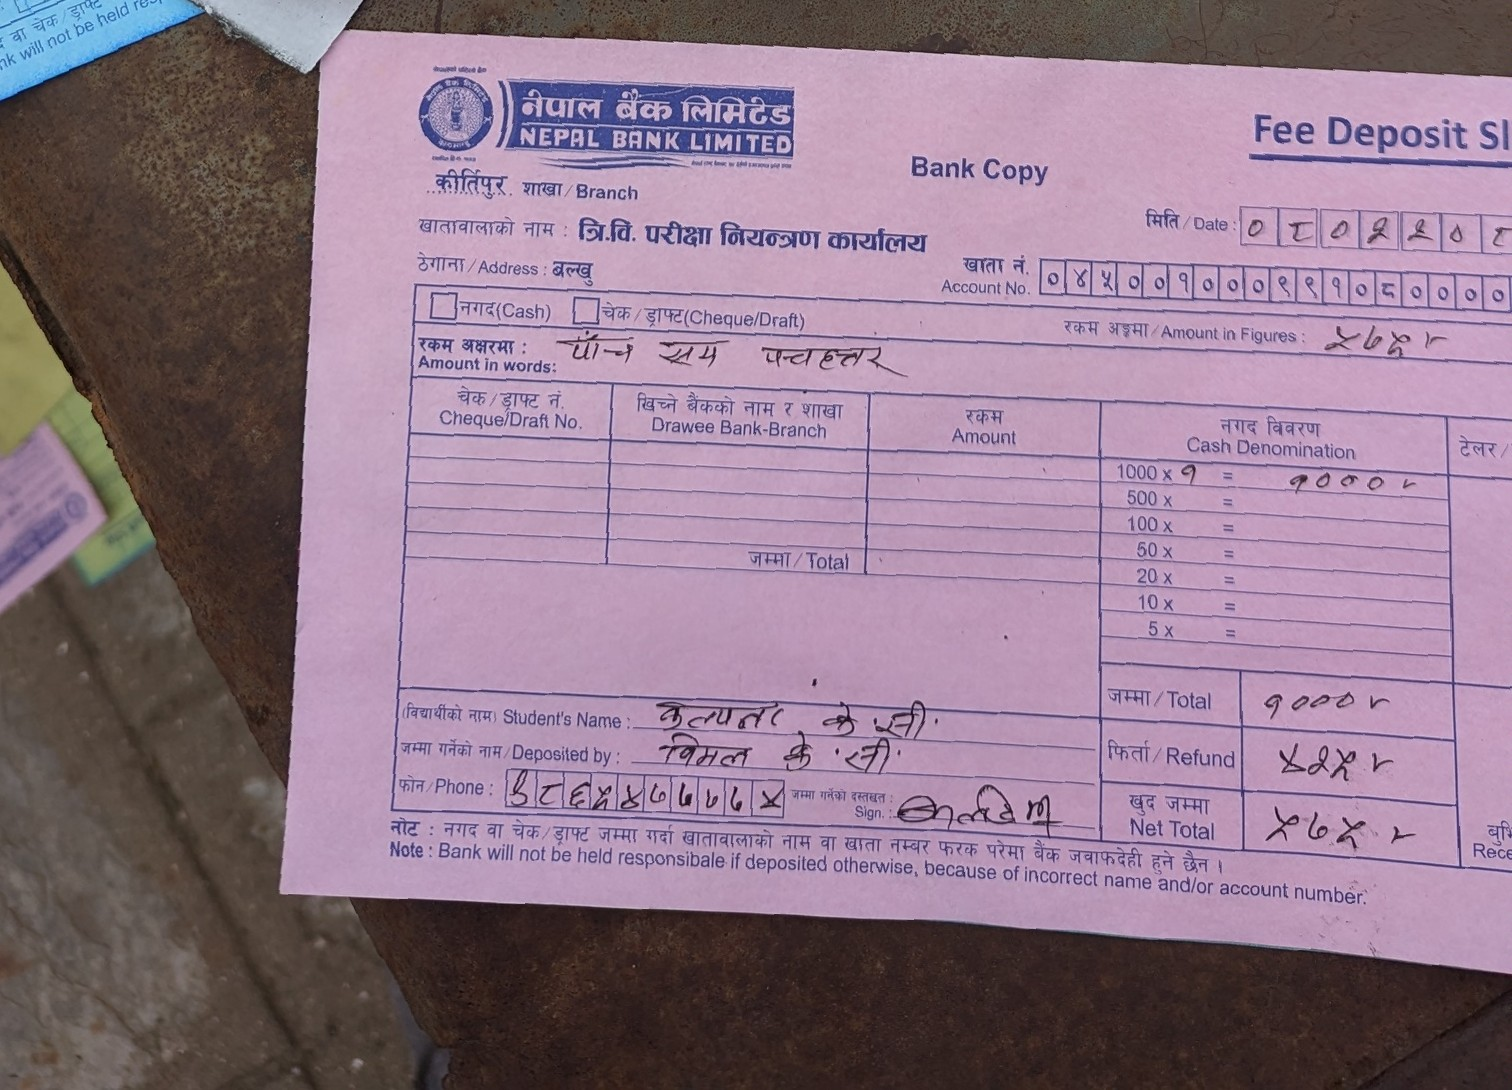text: (500, 772, 787, 817), (891, 780, 1064, 832), (754, 334, 917, 387), (646, 684, 794, 731), (1260, 800, 1373, 860), (1270, 451, 1396, 505), (1318, 309, 1431, 368), (1248, 679, 1386, 727), (1257, 734, 1373, 787), (1406, 199, 1512, 256), (1235, 197, 1323, 256), (1318, 197, 1406, 256), (561, 327, 646, 372), (652, 331, 729, 375), (655, 731, 755, 765), (876, 691, 937, 740), (839, 739, 903, 780), (818, 688, 860, 738), (778, 733, 815, 778), (1172, 455, 1207, 496)
